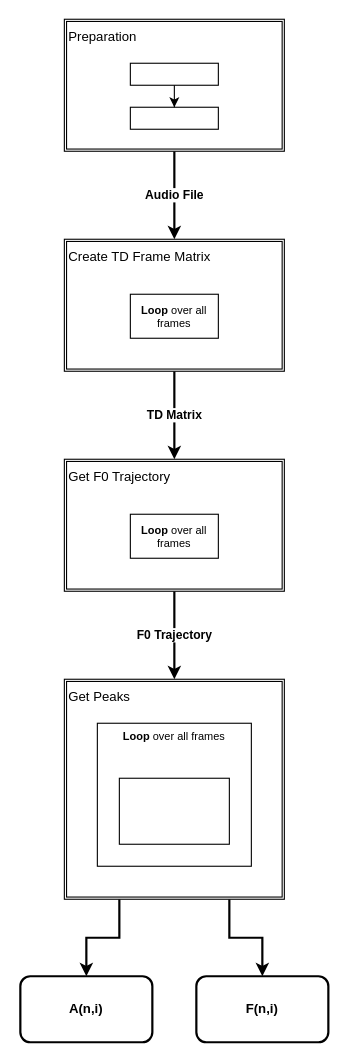
Image size: 348x1063. Some labels were removed from this diagram. Here are the shapes that lost their labels. From the top down, the centre of each, then its label:
the point at 173,73: Read File
the point at 173,117: Normalize
the point at 173,810: Loop over all partials
